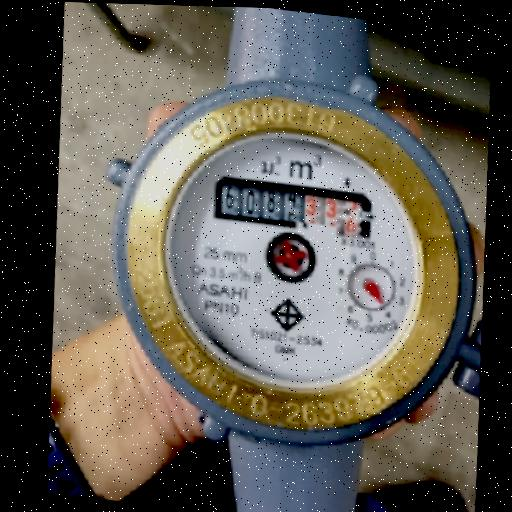0: (239, 187, 259, 218)
3: (322, 197, 341, 227), (302, 195, 321, 224)
4: (282, 191, 301, 222)
6: (342, 199, 363, 238), (219, 184, 240, 216)
8: (261, 189, 280, 220)
border_water_meter_number: (212, 175, 375, 240)
